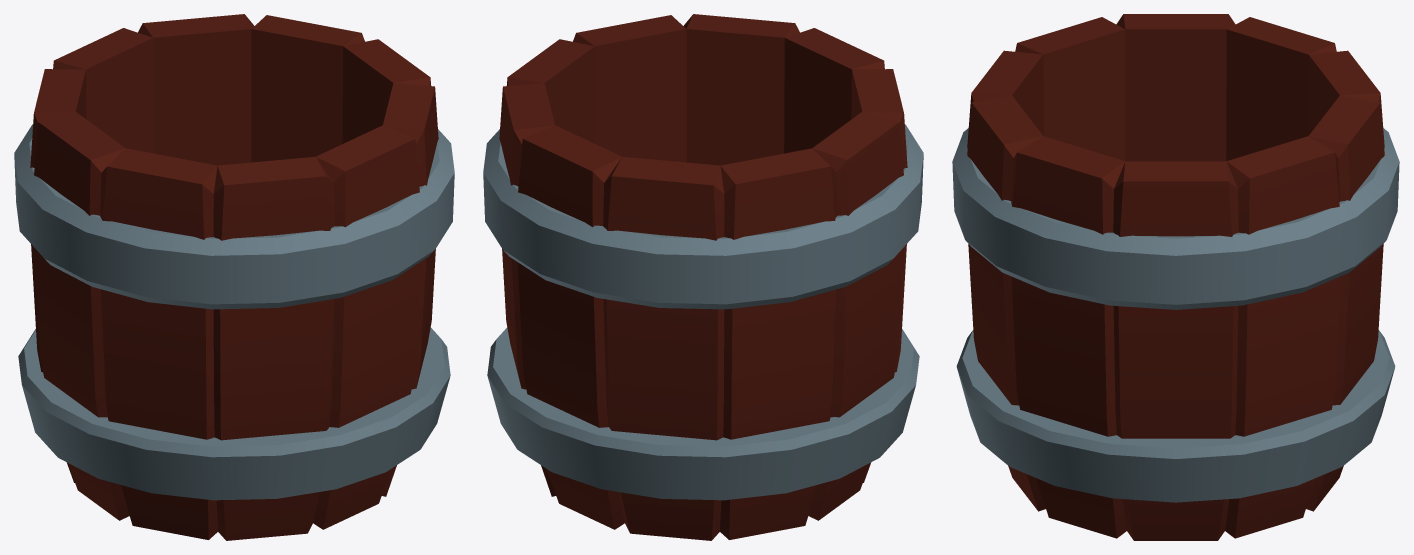
File: bucket_empty.obj
3 renders of one model, left to right at view 1: azimuth 30°, elevation 25°; view 2: azimuth 150°, elevation 25°; view 3: azimuth 270°, elevation 25°, orthographic.
Parts seen in each view (by area): view 1: bucket_empty_Cylinder.031; view 2: bucket_empty_Cylinder.031; view 3: bucket_empty_Cylinder.031.
Boxes of the visible parts, x1,y1,x2,y2 form: bucket_empty_Cylinder.031: (14, 14, 454, 540); bucket_empty_Cylinder.031: (483, 14, 923, 540); bucket_empty_Cylinder.031: (952, 14, 1399, 540).
Bounding box in the file's own units: 0.7083 × 0.662 × 0.7083.
